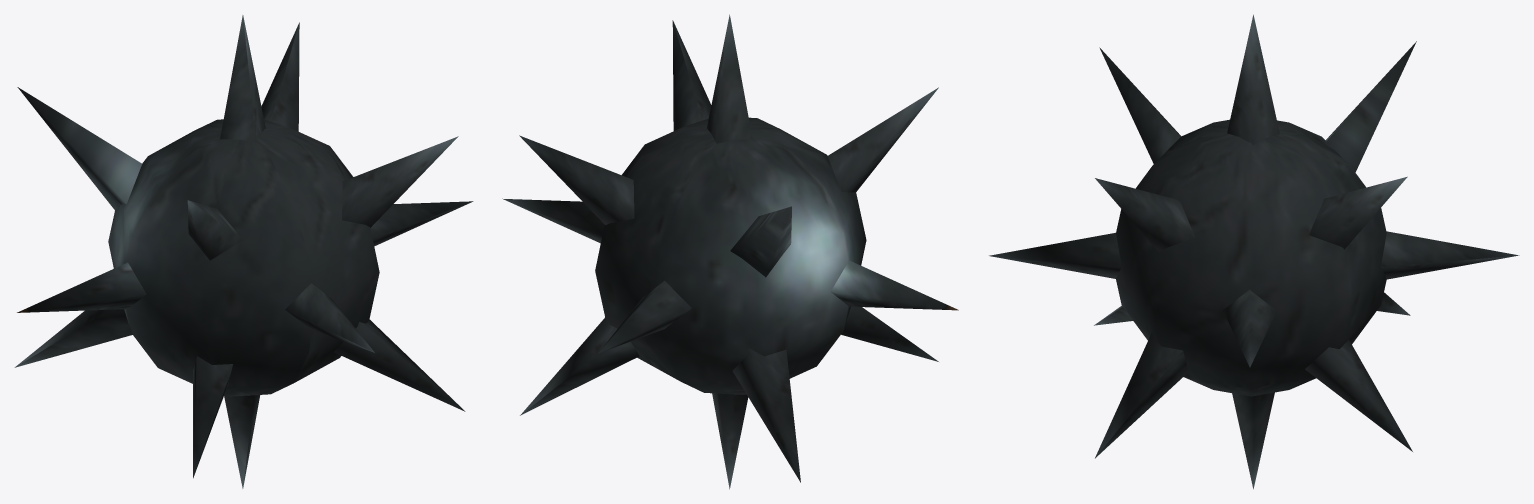
3 views of the same model, side by side, from view 1: azimuth 30°, elevation 25°; view 2: azimuth 150°, elevation 25°; view 3: azimuth 270°, elevation 25° (orthographic).
Visible parts, largest first — view 1: morning; view 2: morning; view 3: morning.
Boxes of the visible parts, x1,y1,x2,y2 form: morning: [14, 15, 473, 488]; morning: [502, 14, 958, 489]; morning: [989, 14, 1519, 489].
Size of the model in its own units: 58.31 by 57.97 by 58.68.
Materials: 1 (1 with a texture image).
